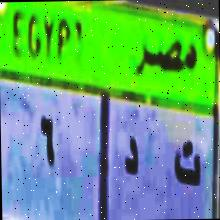6: (38, 112, 56, 172)
daal: (121, 132, 140, 182)
taa: (170, 133, 203, 190)
